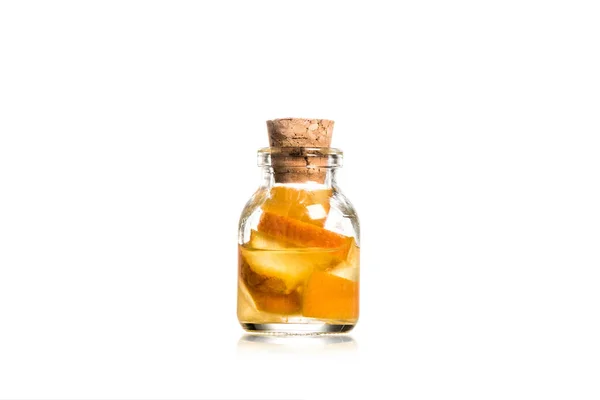glass_bottle: (219, 107, 383, 358)
